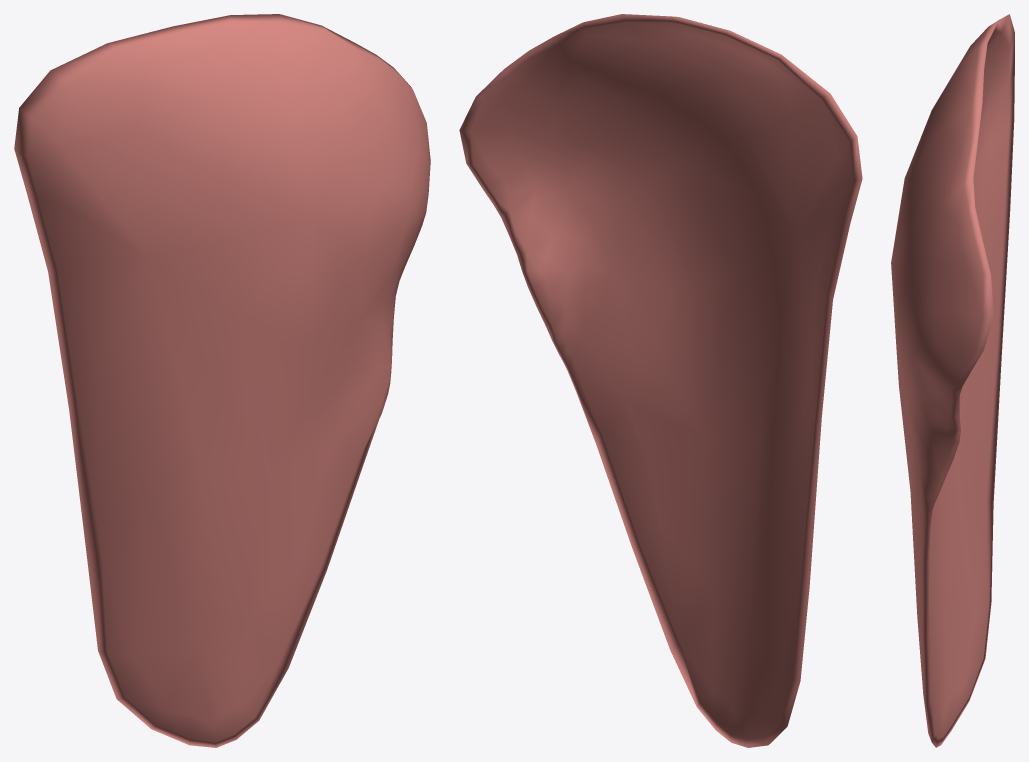
3 renders of one model, left to right at view 1: azimuth 30°, elevation 25°; view 2: azimuth 150°, elevation 25°; view 3: azimuth 270°, elevation 25°, orthographic. The views are drawn at different scales.
Parts seen in each view (by area): view 1: ZA_adeef06dd5b1b507; view 2: ZA_adeef06dd5b1b507; view 3: ZA_adeef06dd5b1b507.
Boxes of the visible parts, left/top/right/bottom form: ZA_adeef06dd5b1b507: left=14, top=14, right=430, bottom=747; ZA_adeef06dd5b1b507: left=459, top=14, right=862, bottom=747; ZA_adeef06dd5b1b507: left=891, top=14, right=1014, bottom=747.
Size of the model in its own units: 0.0215 by 0.0365 by 0.00591.
